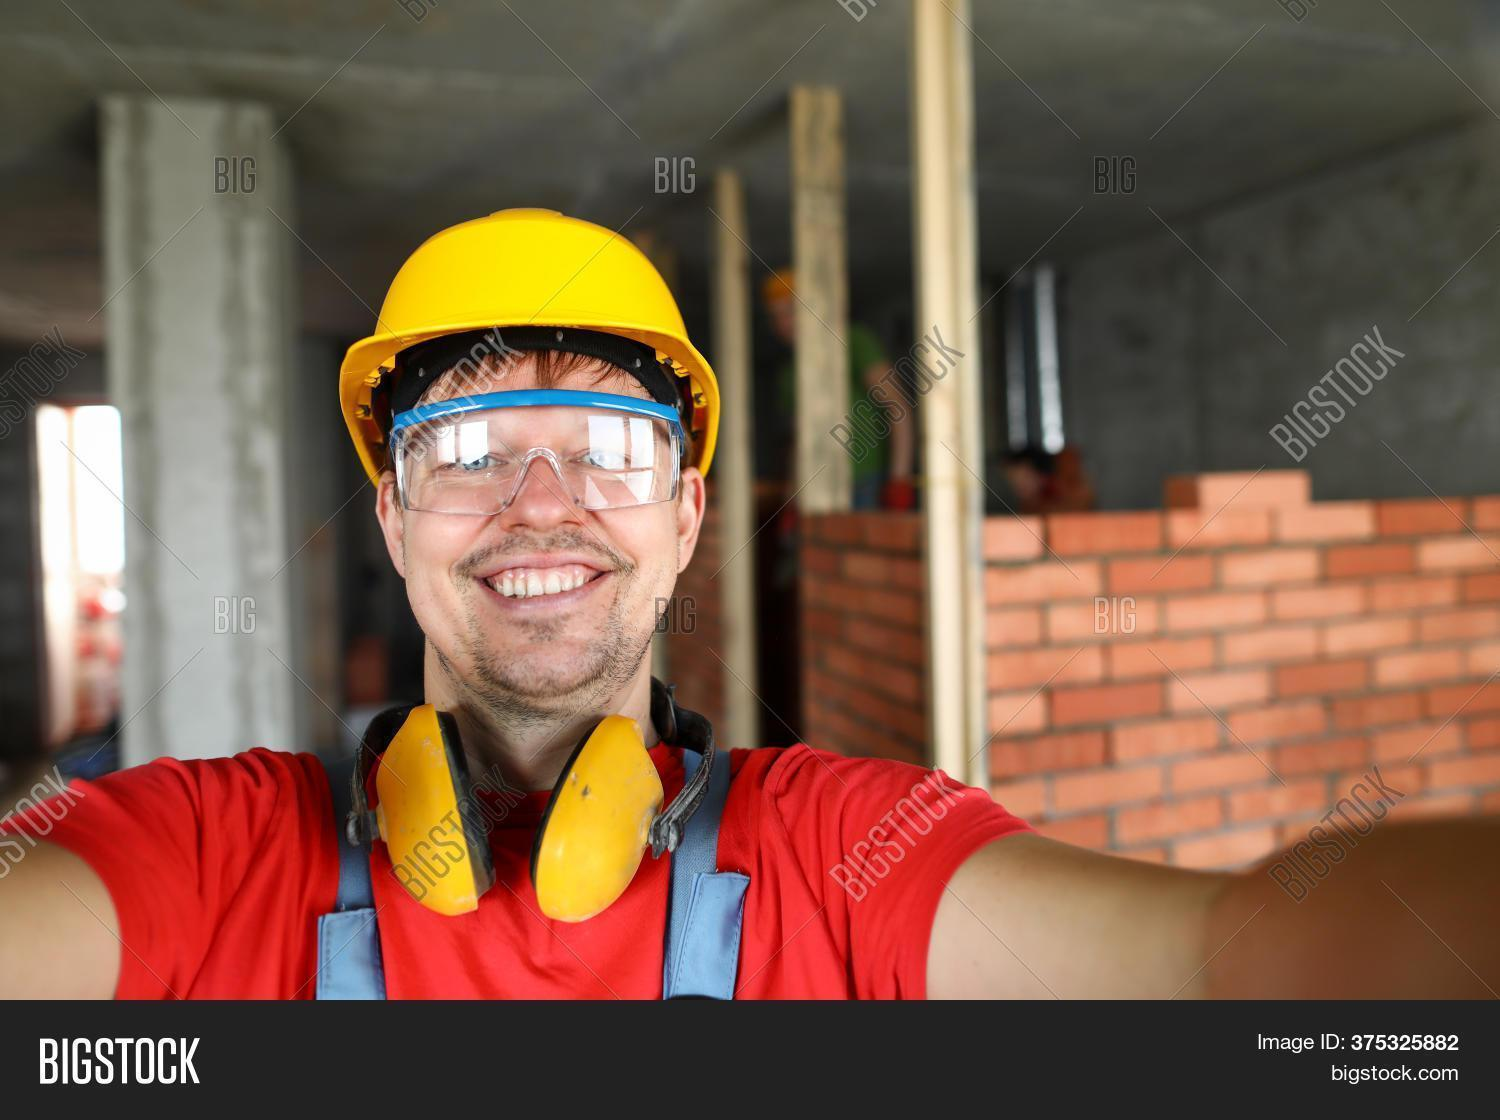helmet: (336, 204, 724, 464)
